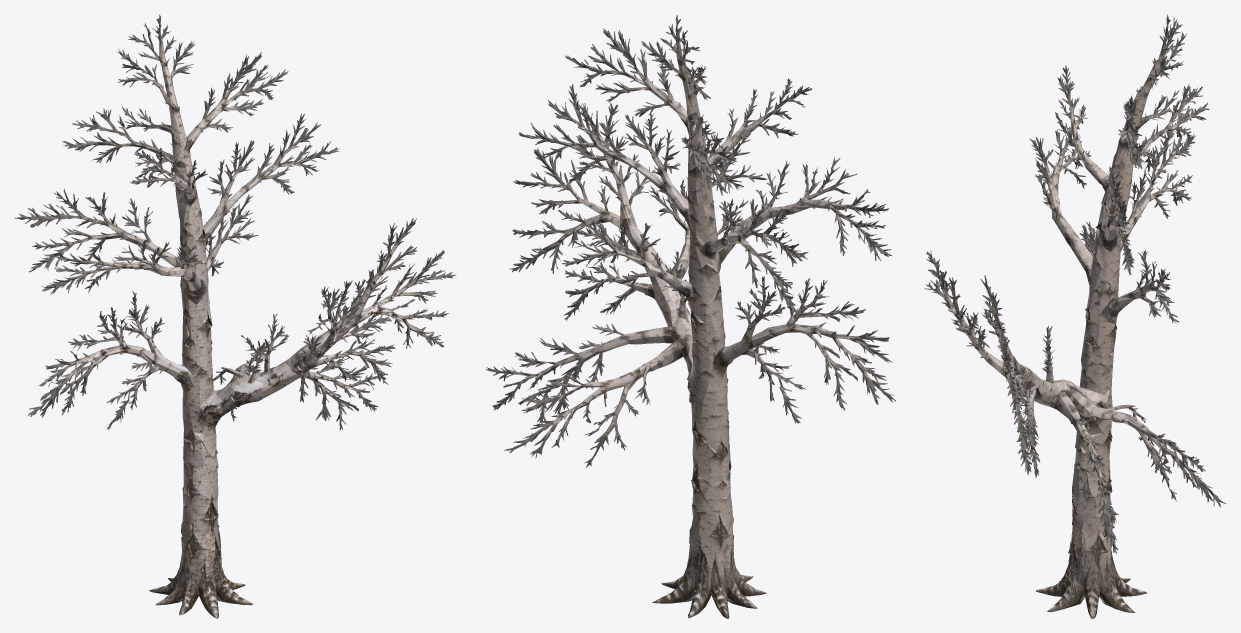
The model's file is urman_winter_birch_meshy_v2.glb.
3 renders of one model, left to right at view 1: azimuth 30°, elevation 25°; view 2: azimuth 150°, elevation 25°; view 3: azimuth 270°, elevation 25°, orthographic. The views are drawn at different scales.
Parts seen in each view (by area): view 1: WinterBirch_LOD0; view 2: WinterBirch_LOD0; view 3: WinterBirch_LOD0.
Boxes of the visible parts, x1,y1,x2,y2 form: WinterBirch_LOD0: (14, 14, 456, 618); WinterBirch_LOD0: (485, 15, 895, 618); WinterBirch_LOD0: (924, 14, 1226, 618).
Size of what is drawn, in the model's own units: 0.7292 by 1 by 0.4726.
Materials: 1 (1 with a texture image).
